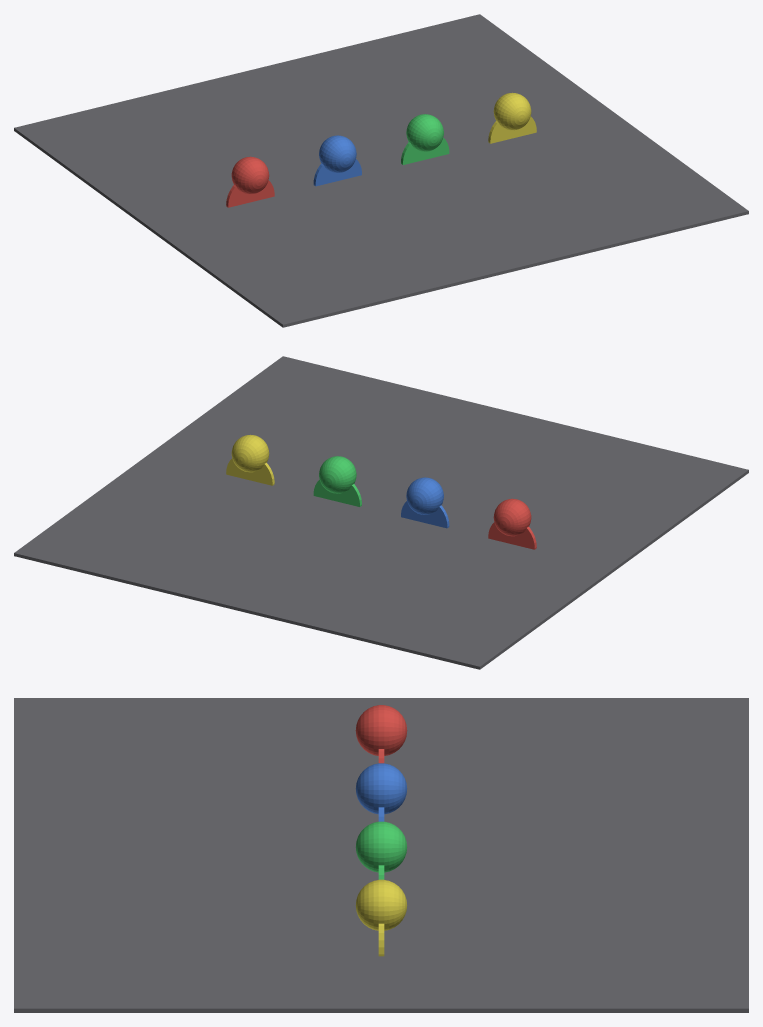
File: ColorPickRoom.glb
3 views of the same model, one above another, from view 1: azimuth 30°, elevation 25°; view 2: azimuth 150°, elevation 25°; view 3: azimuth 270°, elevation 25° (orthographic). The views are drawn at different scales.
Visible parts, largest first — view 1: Floor, OrbGreen, OrbYellow, OrbRed, OrbBlue, DiscBlue, DiscYellow, DiscRed, DiscGreen; view 2: Floor, OrbGreen, OrbYellow, OrbRed, OrbBlue, DiscBlue, DiscYellow, DiscRed, DiscGreen; view 3: Floor, OrbBlue, OrbGreen, OrbYellow, OrbRed.
Boxes of the visible parts, x1,y1,x2,y2 form: Floor: [14, 14, 748, 327]; OrbGreen: [406, 114, 443, 151]; OrbYellow: [493, 92, 531, 130]; OrbRed: [231, 156, 269, 194]; OrbBlue: [319, 135, 356, 172]; DiscBlue: [313, 159, 361, 186]; DiscYellow: [488, 116, 536, 143]; DiscRed: [226, 180, 274, 207]; DiscGreen: [401, 138, 449, 164]; Floor: [14, 356, 748, 669]; OrbGreen: [319, 456, 356, 493]; OrbYellow: [231, 434, 269, 472]; OrbRed: [493, 498, 531, 536]; OrbBlue: [406, 477, 443, 514]; DiscBlue: [401, 501, 449, 528]; DiscYellow: [226, 458, 274, 485]; DiscRed: [488, 522, 536, 549]; DiscGreen: [313, 480, 361, 506]; Floor: [14, 698, 748, 1012]; OrbBlue: [355, 763, 407, 814]; OrbGreen: [355, 821, 407, 872]; OrbYellow: [355, 879, 407, 930]; OrbRed: [355, 705, 407, 755].
Bounding box in the file's own units: 8 × 1.08 × 8.
